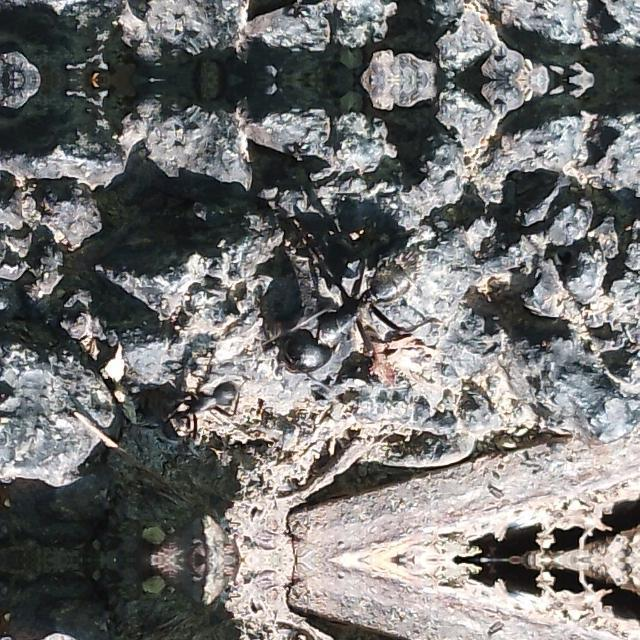Camponotus: (273, 237, 433, 381), (166, 368, 246, 442)
